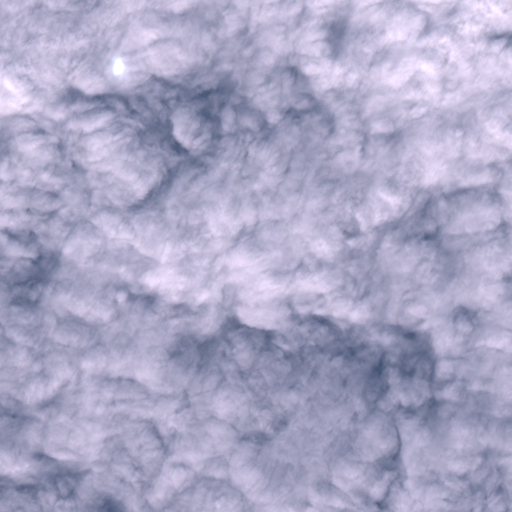Iceberg: (113, 58, 123, 74)
